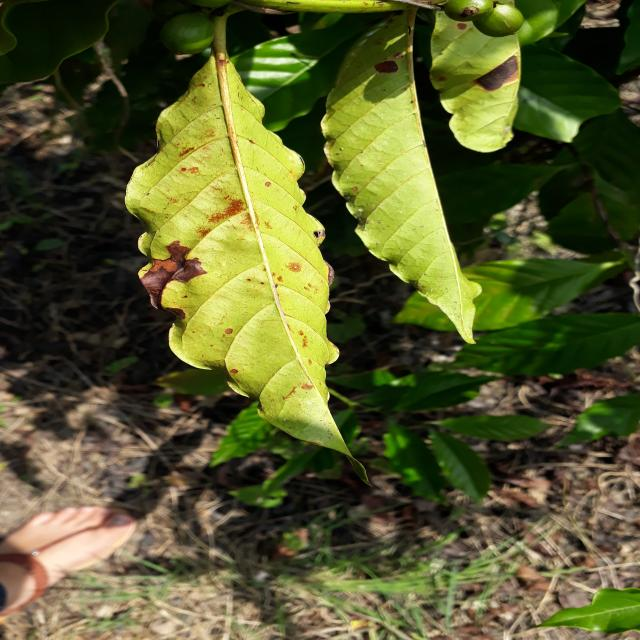Plaga-AranaRoja: (125, 50, 352, 460)
